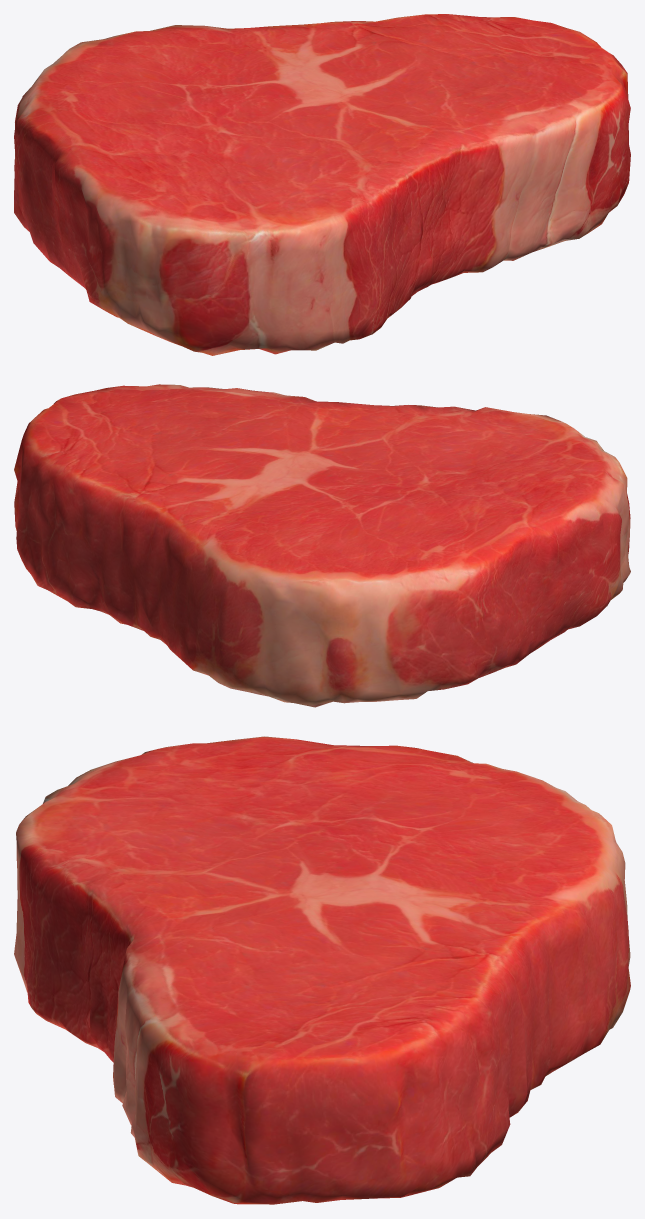
Rendered from Steak_Delight_0718035116_texture.fbx.
3 views of the same model, one above another, from view 1: azimuth 30°, elevation 25°; view 2: azimuth 150°, elevation 25°; view 3: azimuth 270°, elevation 25° (orthographic). The views are drawn at different scales.
Parts seen in each view (by area): view 1: Mesh1; view 2: Mesh1; view 3: Mesh1.
Boxes of the visible parts, box(x1,y1,x2,y2) form: Mesh1: box(14, 14, 630, 355); Mesh1: box(14, 384, 630, 707); Mesh1: box(14, 736, 630, 1204).
Bounding box in the file's own units: 200 × 50.79 × 161.
Materials: 1 (1 with a texture image).
